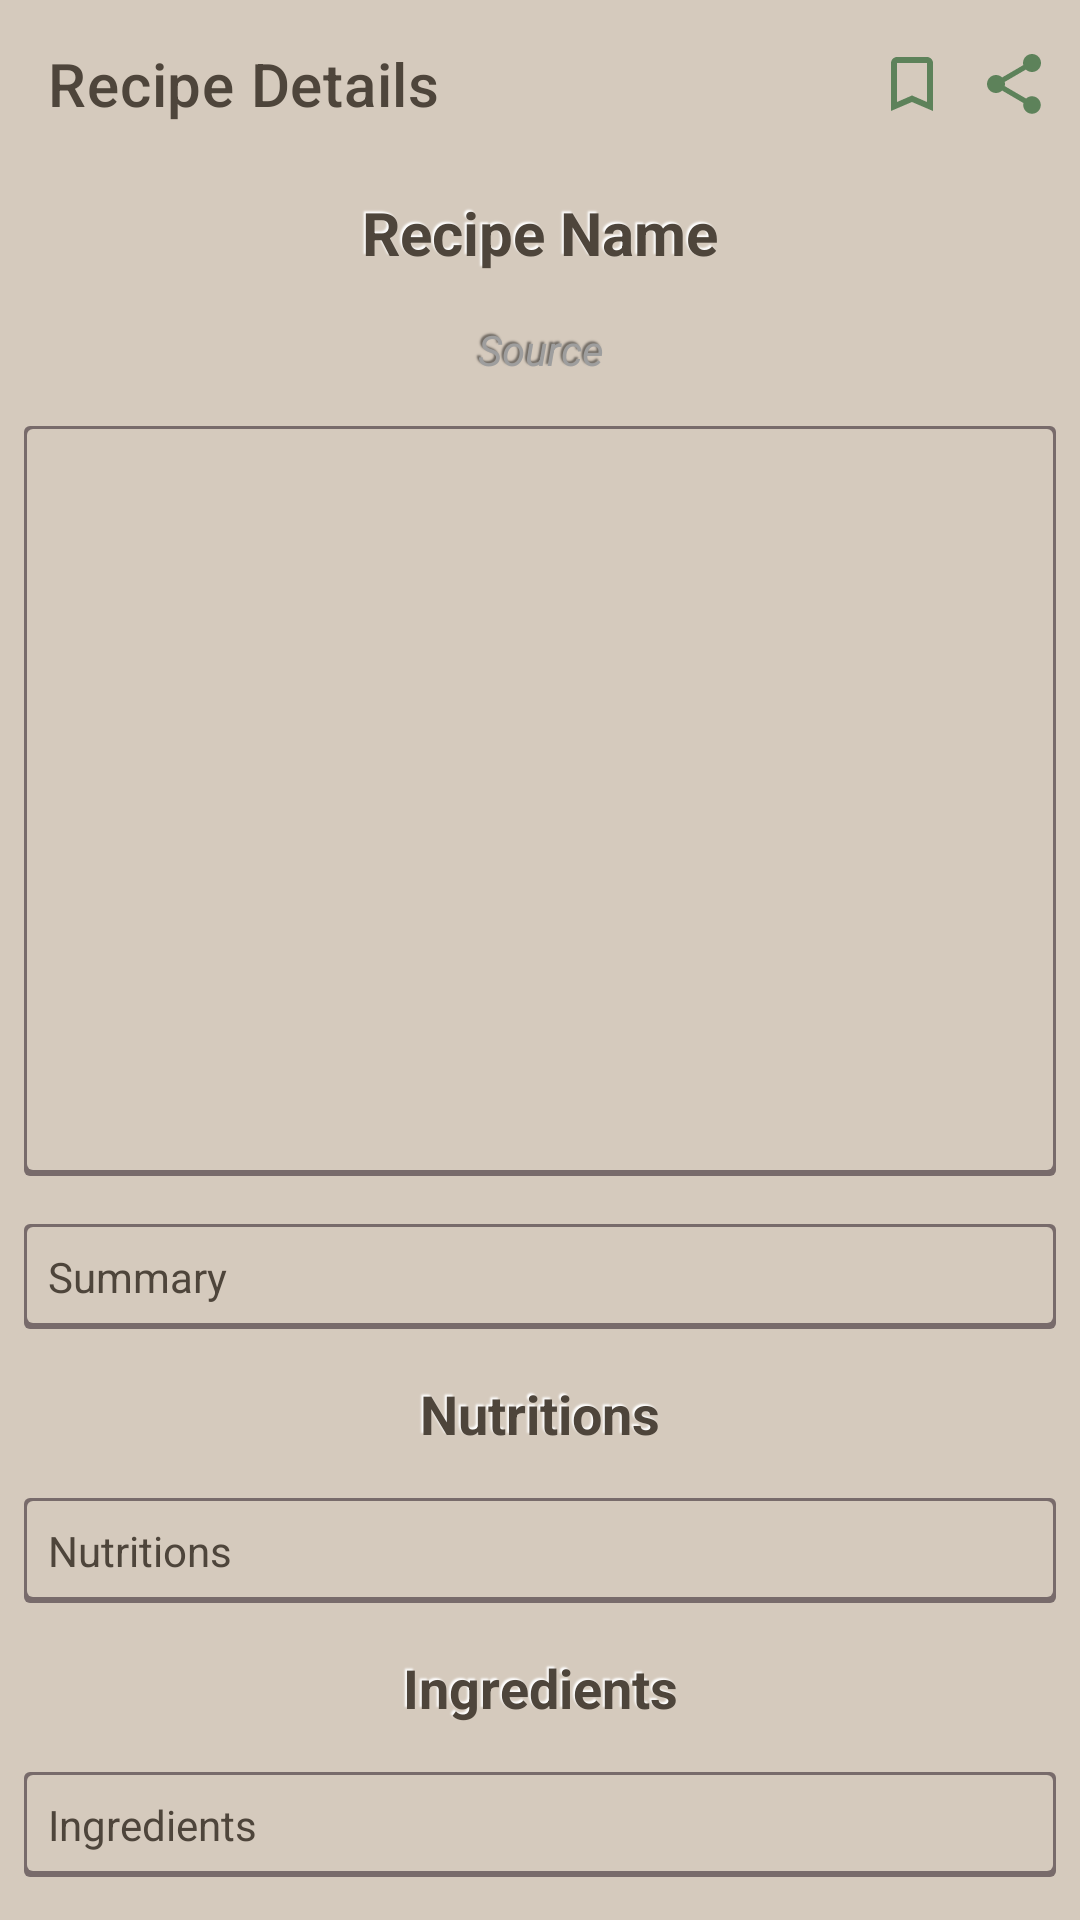

Icon click points for this 1080px x 1920px phone screenshot, format [x,y]:
Add to Database: [912,84]
Share via: [1014,84]
